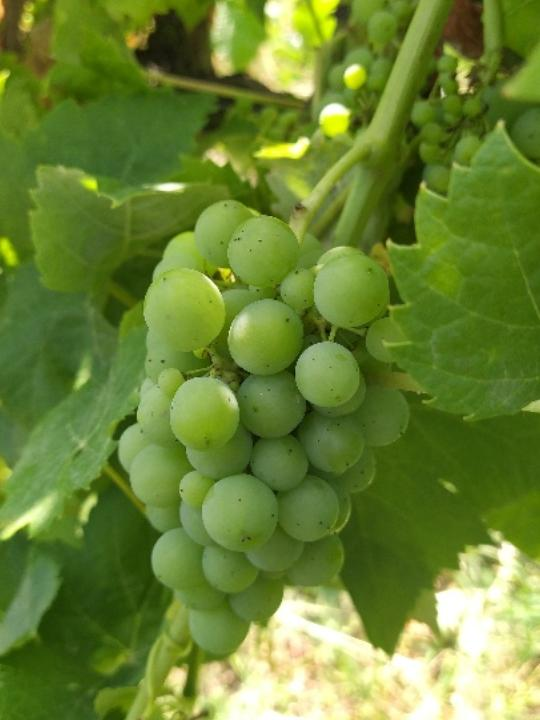grape: (112, 196, 414, 662)
